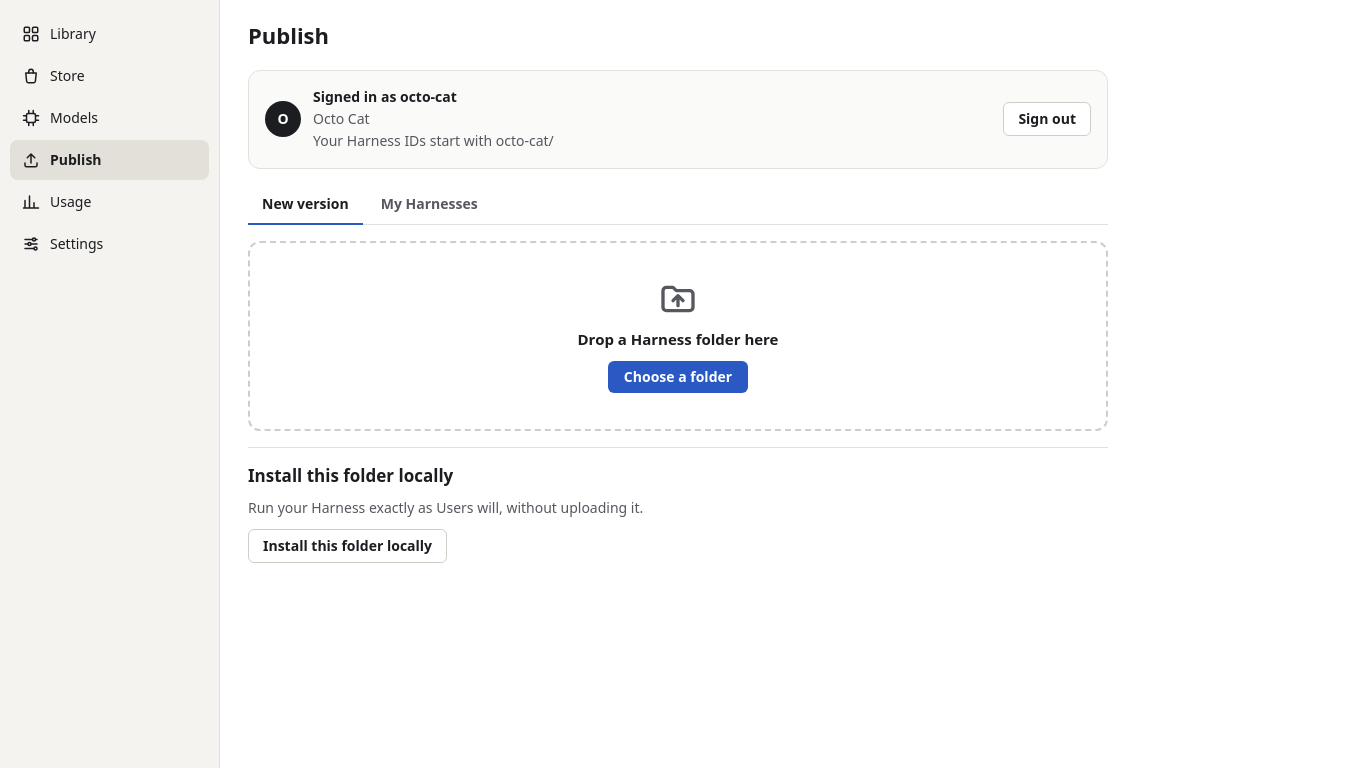
Test: choosing and validating a folder › ignores a change reported for another folder
The width and height of the screenshot is (1366, 768).
Click the button "Choose a folder" at x=678, y=377, box [608, 360, 748, 393]
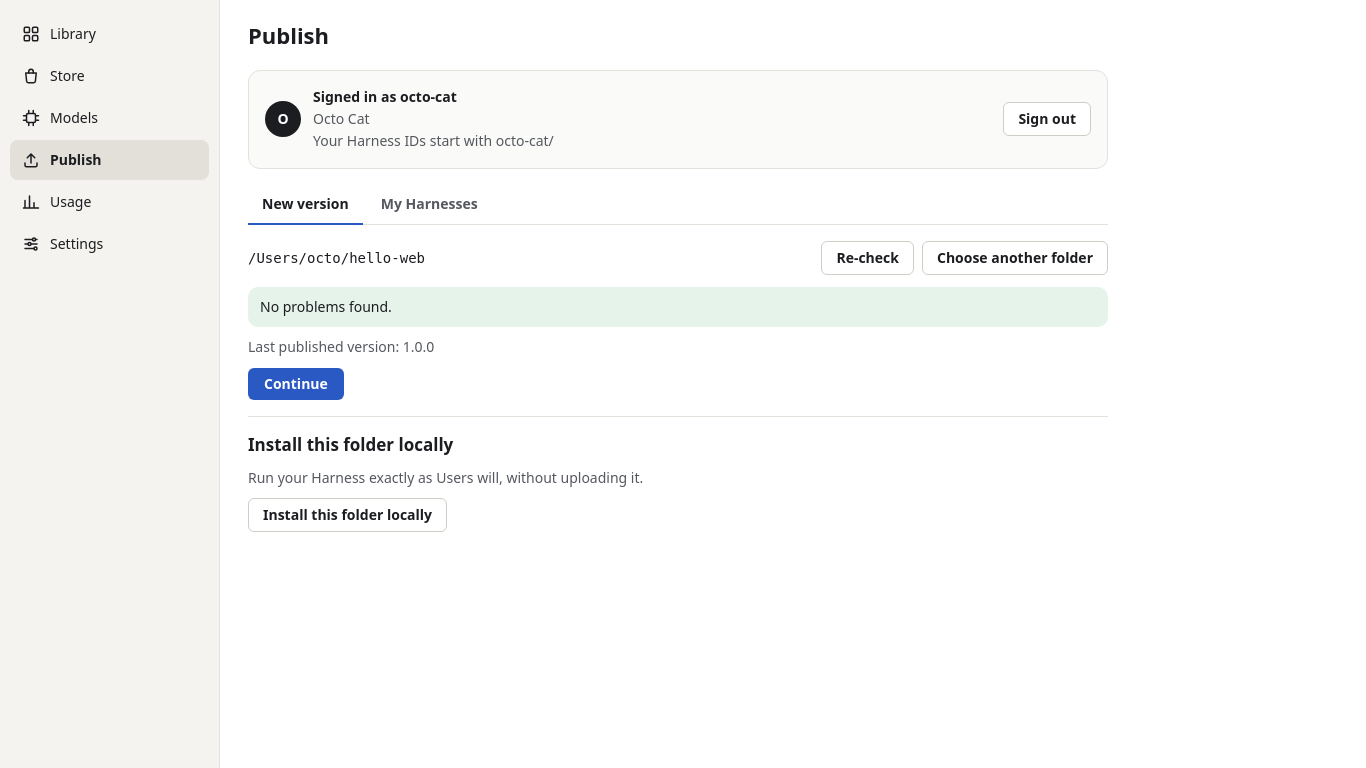
Expected: the text "No problems found." is shown, [248, 287, 1108, 327]
